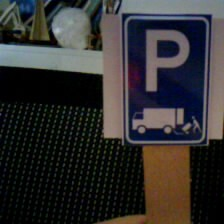load: (112, 8, 220, 153)
